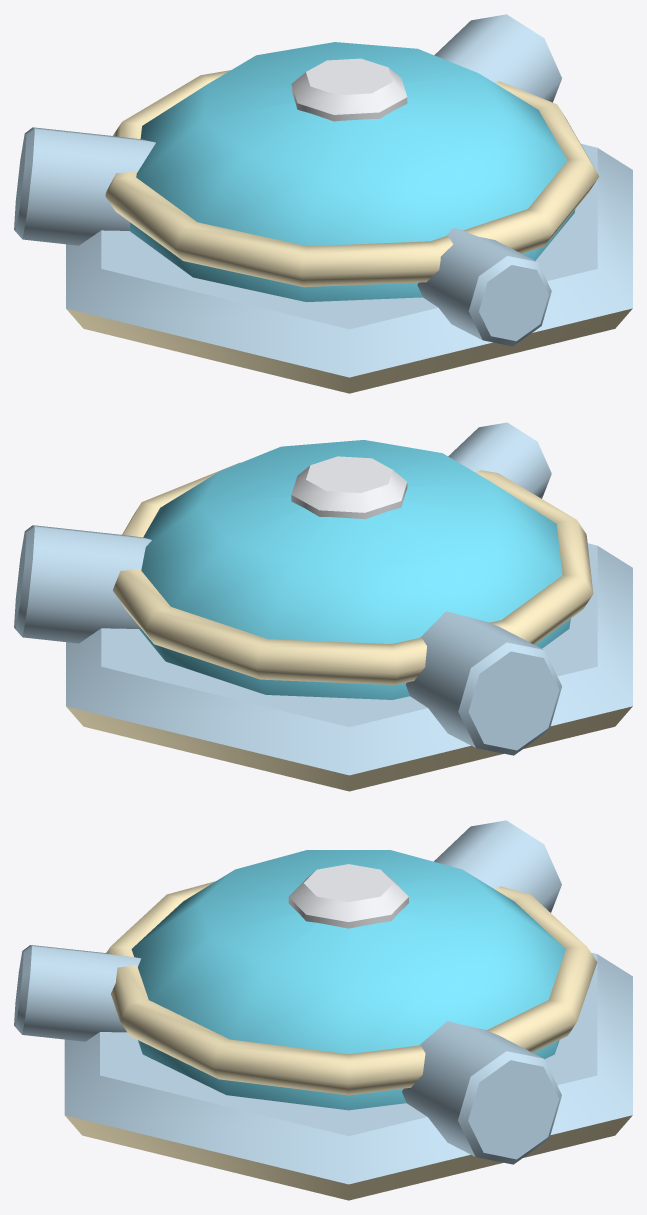
The model's file is R4D_SlowTrap.glb.
3 views of the same model, one above another, from view 1: azimuth 30°, elevation 25°; view 2: azimuth 150°, elevation 25°; view 3: azimuth 270°, elevation 25° (orthographic).
Parts seen in each view (by area): view 1: R4D_SlowTrap_Body; view 2: R4D_SlowTrap_Body; view 3: R4D_SlowTrap_Body.
Part boxes in pixels (left/top/right/bottom): R4D_SlowTrap_Body: left=14, top=14, right=632, bottom=393; R4D_SlowTrap_Body: left=14, top=422, right=632, bottom=791; R4D_SlowTrap_Body: left=14, top=820, right=632, bottom=1200.
Bounding box in the file's own units: 0.48 × 0.1513 × 0.4526.
